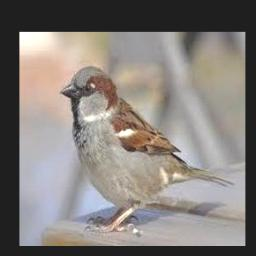Sparrow: (59, 65, 233, 232)
